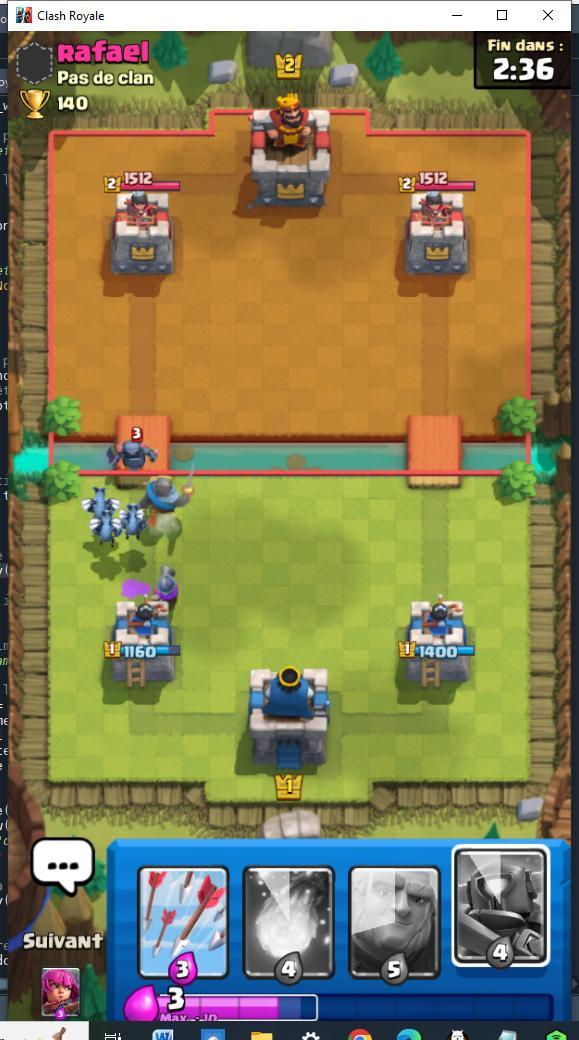enemy_mini_pekka: (99, 417, 163, 474)
player_knight: (136, 460, 201, 519)
player_minions: (85, 506, 123, 545), (117, 499, 153, 538), (81, 484, 119, 520)
player_musketeer: (149, 559, 185, 611)
